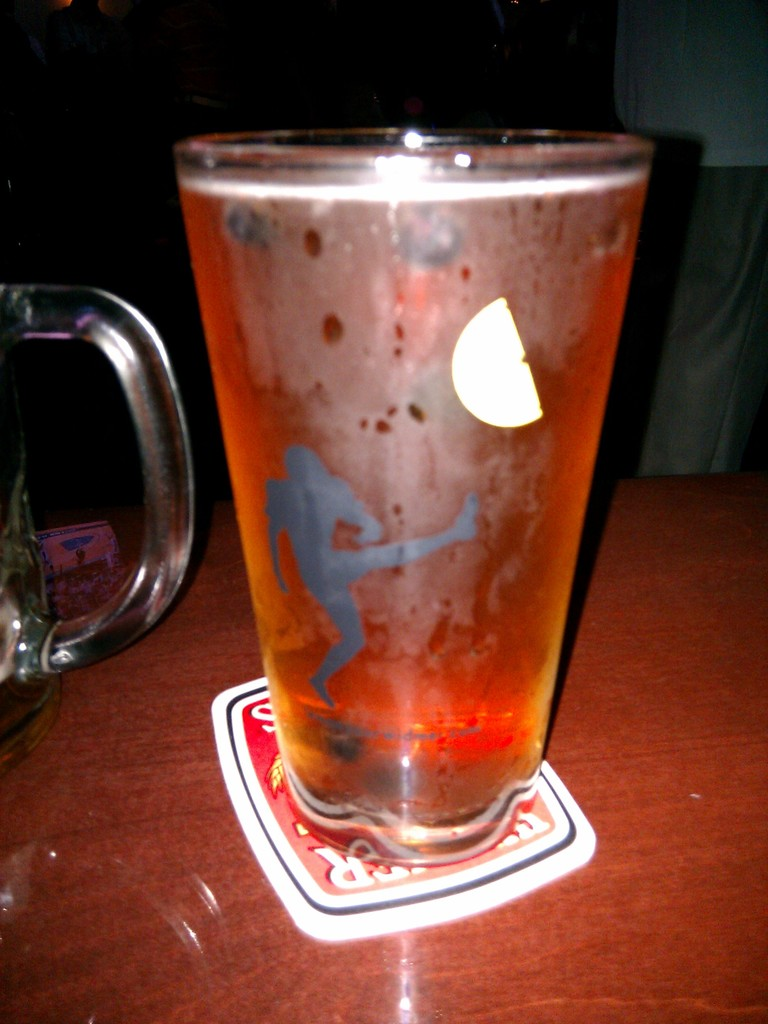Beer: (177, 119, 653, 862)
